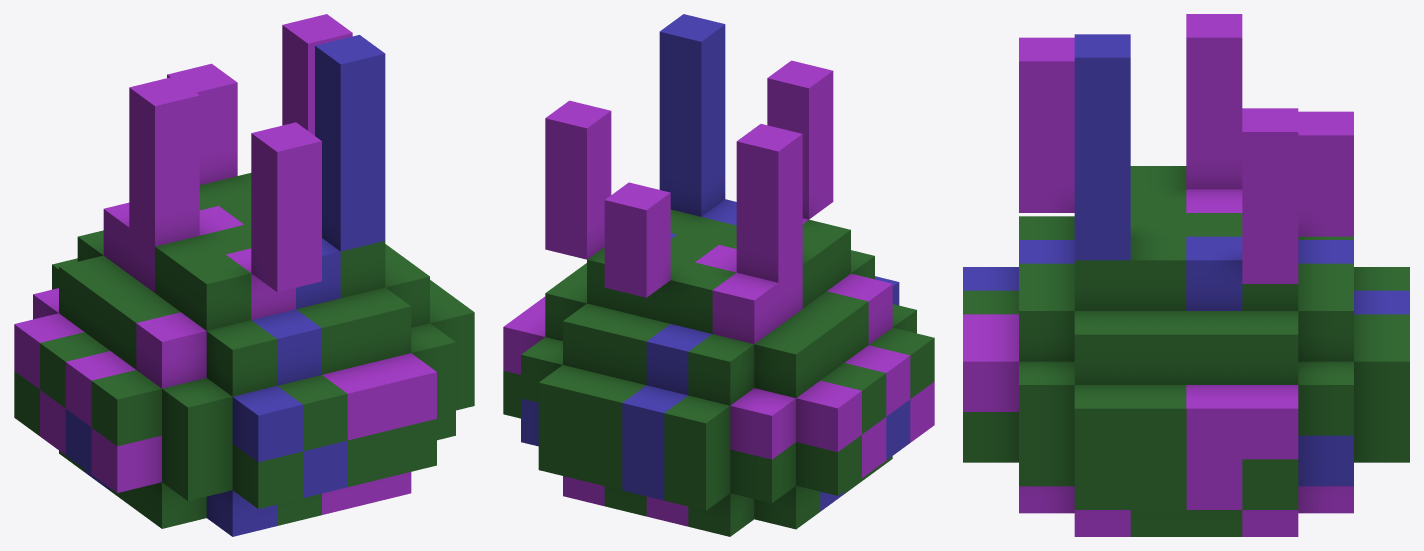
Rendered from r_dyes.glb.
The picture shows the model from 3 angles, left to right: view 1: azimuth 30°, elevation 25°; view 2: azimuth 150°, elevation 25°; view 3: azimuth 270°, elevation 25°; orthographic projection. The views are drawn at different scales.
Visible parts, largest first — view 1: r_dyes_body; view 2: r_dyes_body; view 3: r_dyes_body.
Part boxes in pixels (x1,y1,x2,y2): r_dyes_body: (14, 14, 474, 536); r_dyes_body: (503, 14, 934, 536); r_dyes_body: (963, 14, 1409, 536).
Size of the model in its own units: 0.5 by 0.5625 by 0.5.
1 material, 1 textured.
